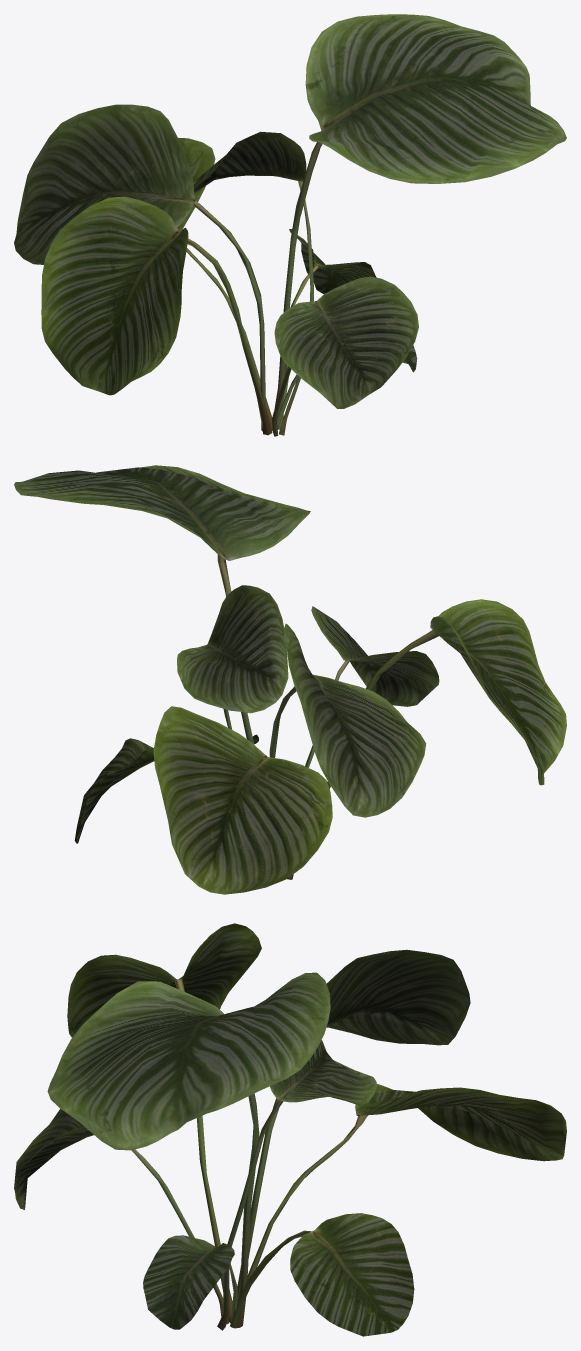
Rendered from calathea_orbifolia_01_a.gltf.lod.glb.
3 views of the same model, one above another, from view 1: azimuth 30°, elevation 25°; view 2: azimuth 150°, elevation 25°; view 3: azimuth 270°, elevation 25° (orthographic). The views are drawn at different scales.
Visible parts, largest first — view 1: calathea_orbifolia_01_a; view 2: calathea_orbifolia_01_a; view 3: calathea_orbifolia_01_a.
Part boxes in pixels (<box>): calathea_orbifolia_01_a: <box>14,14,566,436</box>; calathea_orbifolia_01_a: <box>14,465,566,894</box>; calathea_orbifolia_01_a: <box>14,923,566,1336</box>.
Size of the model in its own units: 0.6016 by 0.4243 by 0.5248.
1 material, 1 textured.
